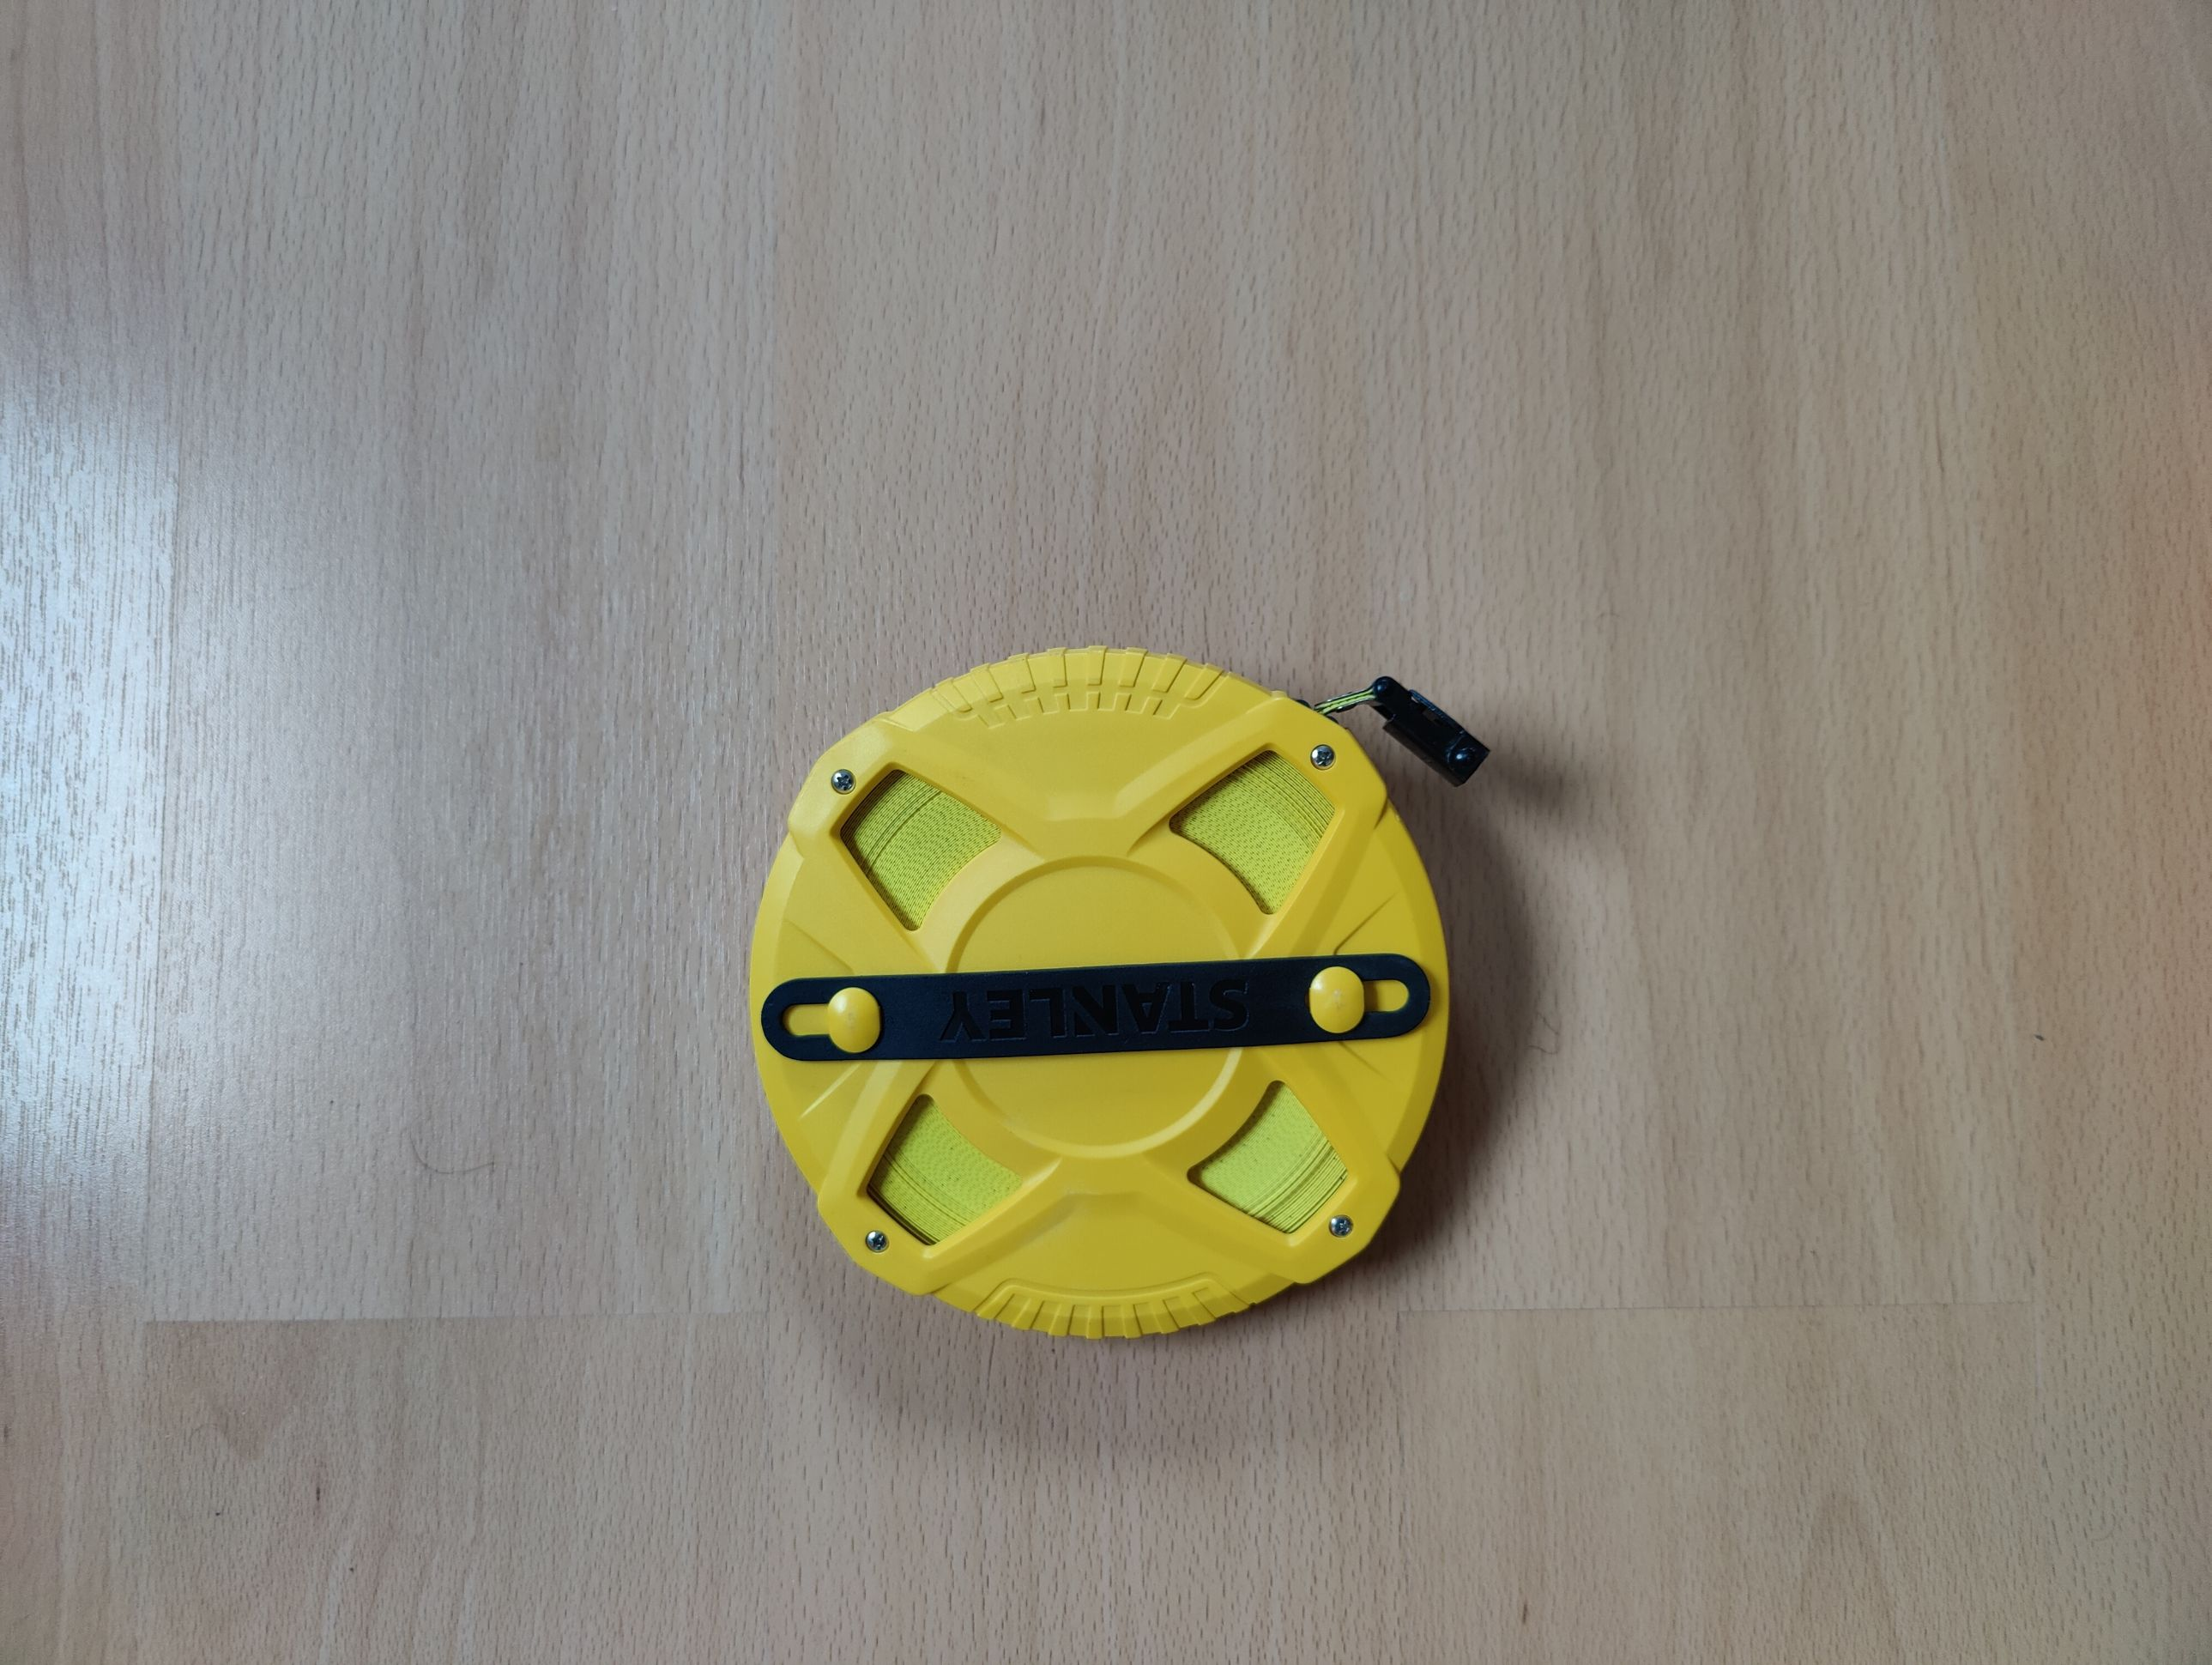tapemeasure: (748, 642, 1485, 1334)
